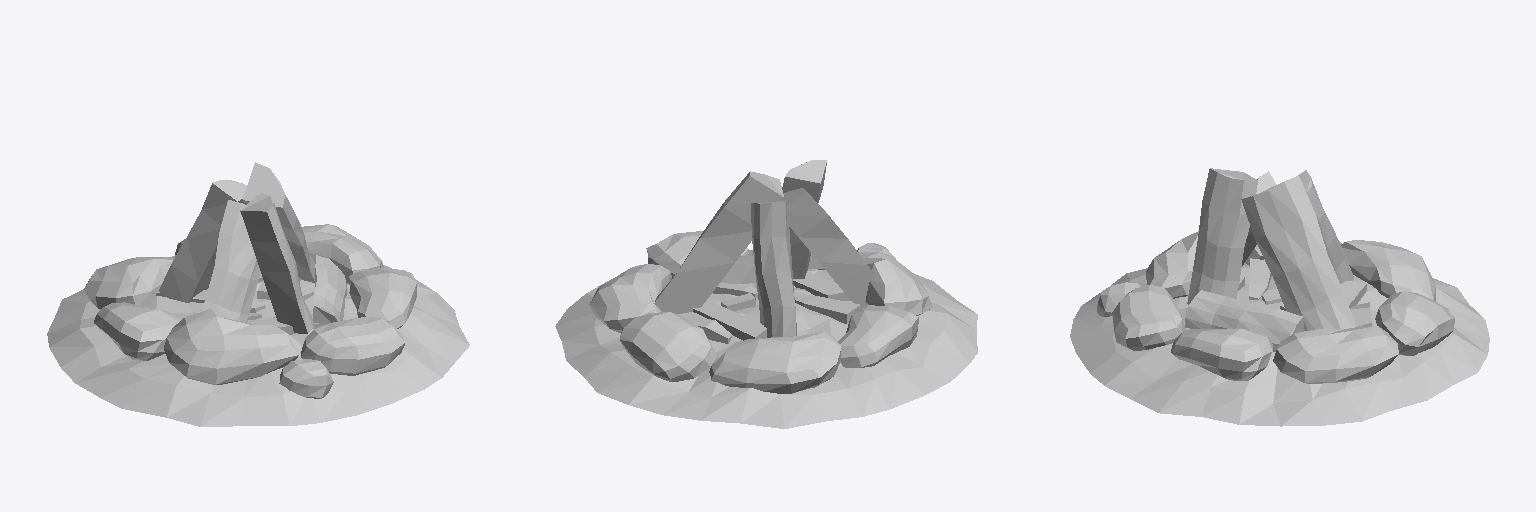
Rendered from campfire.obj.
The picture shows the model from 3 angles: view 1: azimuth 30°, elevation 25°; view 2: azimuth 150°, elevation 25°; view 3: azimuth 270°, elevation 25°; orthographic projection.
Visible parts, largest first — view 1: Cylinder001_未命名; view 2: Cylinder001_未命名; view 3: Cylinder001_未命名.
Boxes of the visible parts, x1=… form: Cylinder001_未命名: x1=47, y1=162, x2=469, y2=426; Cylinder001_未命名: x1=555, y1=160, x2=977, y2=428; Cylinder001_未命名: x1=1070, y1=168, x2=1489, y2=426.
Bounding box in the file's own units: 1.2 × 0.5351 × 1.2.